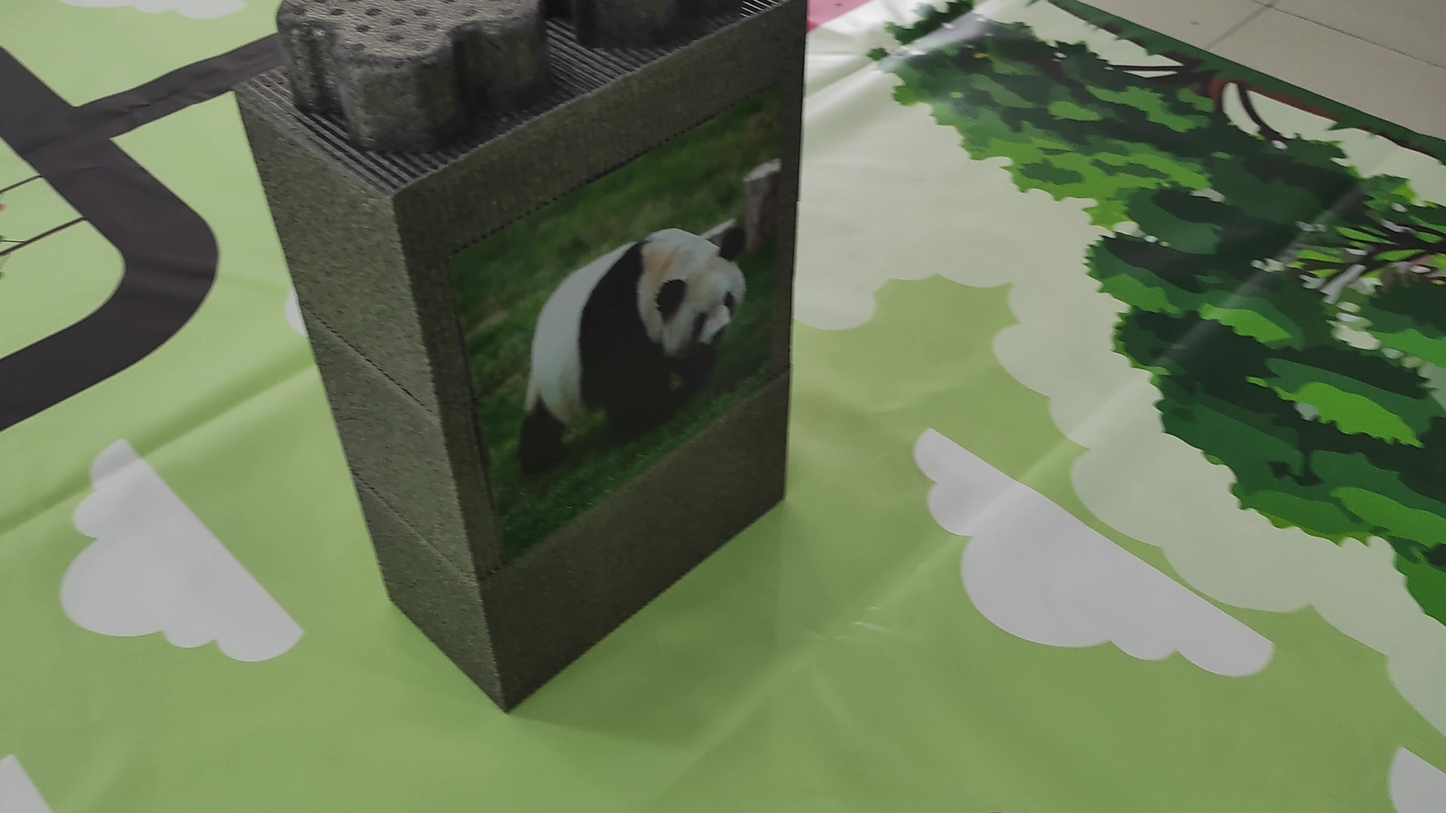panda: (494, 210, 770, 455)
